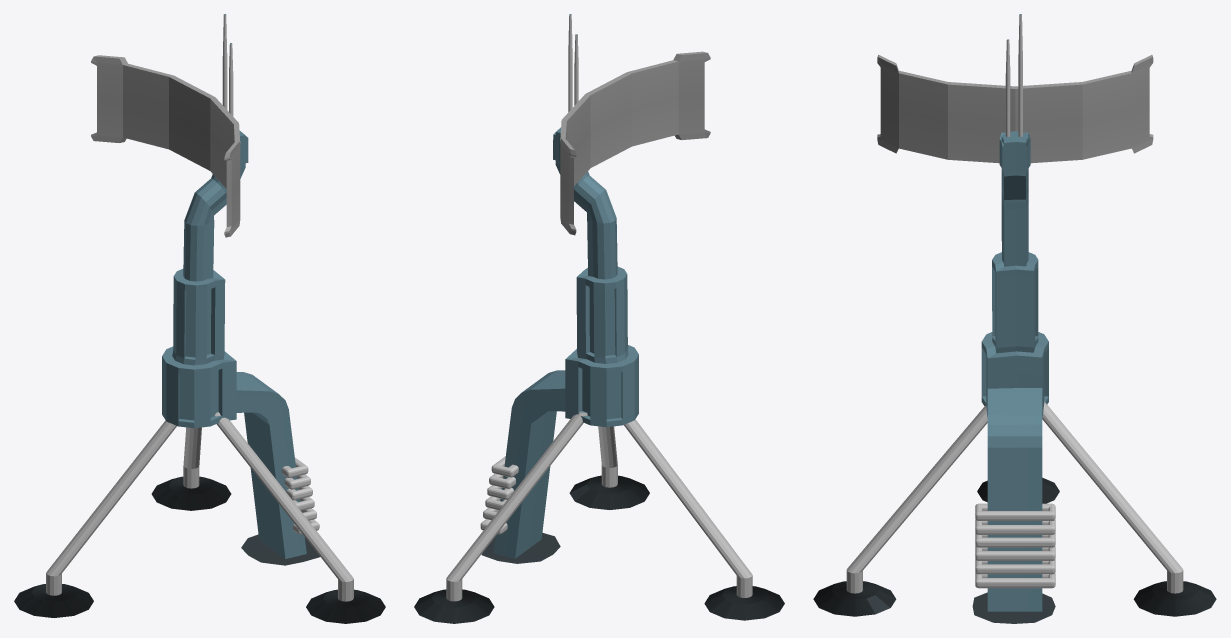
Rendered from Sci-fi antenna.glb.
The picture shows the model from 3 angles, left to right: view 1: azimuth 30°, elevation 25°; view 2: azimuth 150°, elevation 25°; view 3: azimuth 270°, elevation 25°; orthographic projection. The views are drawn at different scales.
Parts seen in each view (by area): view 1: Cube; view 2: Cube; view 3: Cube.
Boxes of the visible parts, <box> form: Cube: <box>14,14,385,623</box>; Cube: <box>414,14,784,623</box>; Cube: <box>813,14,1216,623</box>.
Size of the model in its own units: 8.55 by 14.99 by 9.71.
1 material, 1 textured.
